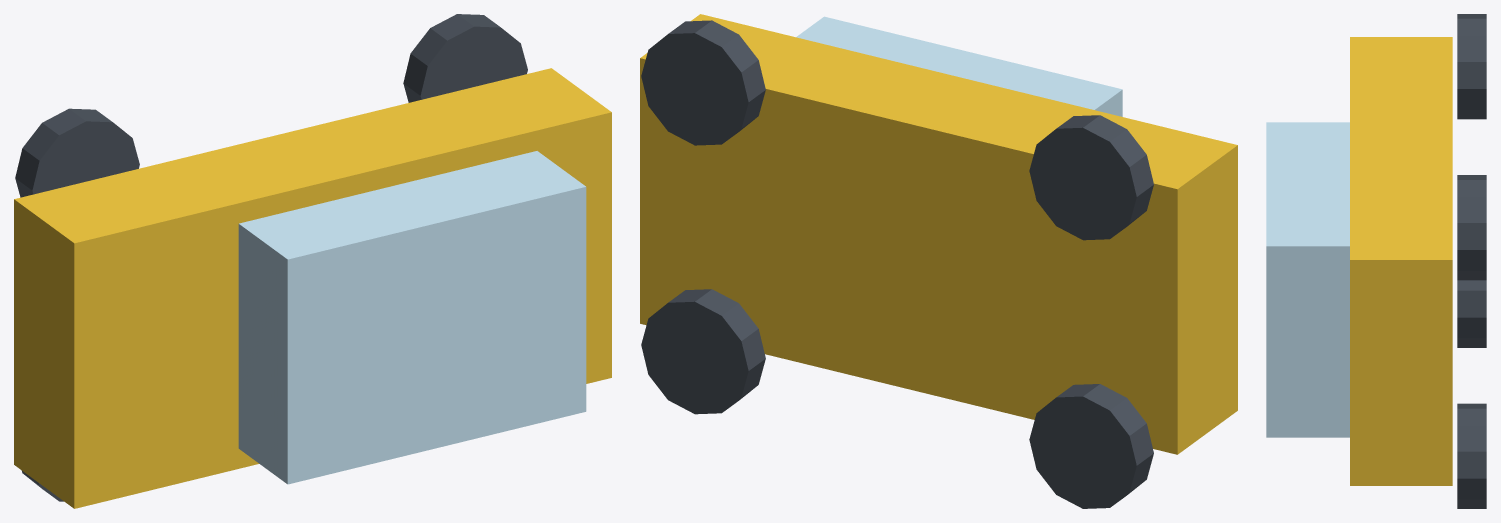
The model's file is car_orange.glb.
3 views of the same model, side by side, from view 1: azimuth 30°, elevation 25°; view 2: azimuth 150°, elevation 25°; view 3: azimuth 270°, elevation 25° (orthographic). The views are drawn at different scales.
Parts seen in each view (by area): view 1: body_0, cabin_1, wheel_5, wheel_3; view 2: body_0, wheel_5, wheel_3, wheel_2, wheel_4, cabin_1; view 3: body_0, cabin_1, wheel_3, wheel_4, wheel_5, wheel_2.
Part boxes in pixels (box(x1,y1,x2,y2)): body_0: box(14, 68, 611, 508); cabin_1: box(238, 151, 586, 484); wheel_5: box(403, 14, 527, 102); wheel_3: box(15, 108, 139, 197); body_0: box(640, 14, 1237, 454); wheel_5: box(641, 20, 765, 145); wheel_3: box(1029, 115, 1153, 240); wheel_2: box(1029, 384, 1153, 508); wheel_4: box(641, 289, 765, 414); cabin_1: box(796, 16, 1122, 116); body_0: box(1350, 37, 1452, 485); cabin_1: box(1266, 122, 1349, 437); wheel_3: box(1457, 14, 1486, 119); wheel_4: box(1457, 403, 1486, 508); wheel_5: box(1457, 175, 1486, 280); wheel_2: box(1457, 280, 1486, 347).
Size of the model in its own units: 1.8 by 1.22 by 0.75.
